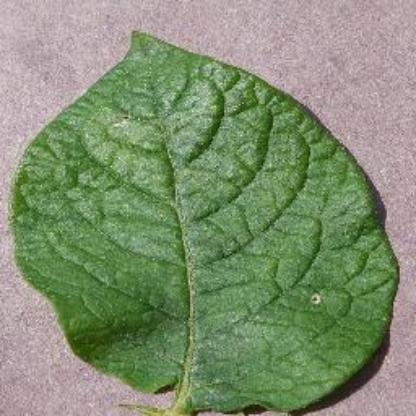Healthy-plant: (4, 16, 396, 410)
